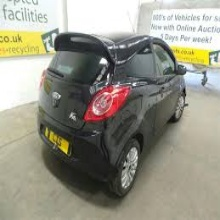no damage: (36, 31, 188, 197)
